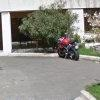Motorcycle: (55, 32, 82, 64)
